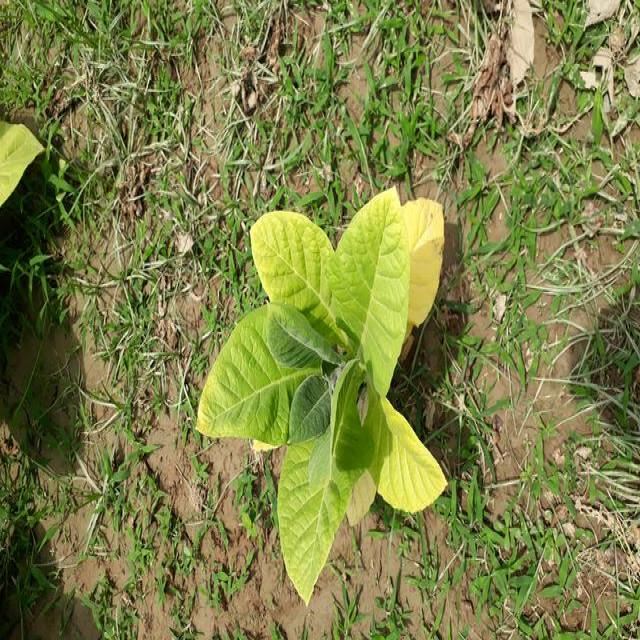crop: (205, 214, 458, 578)
